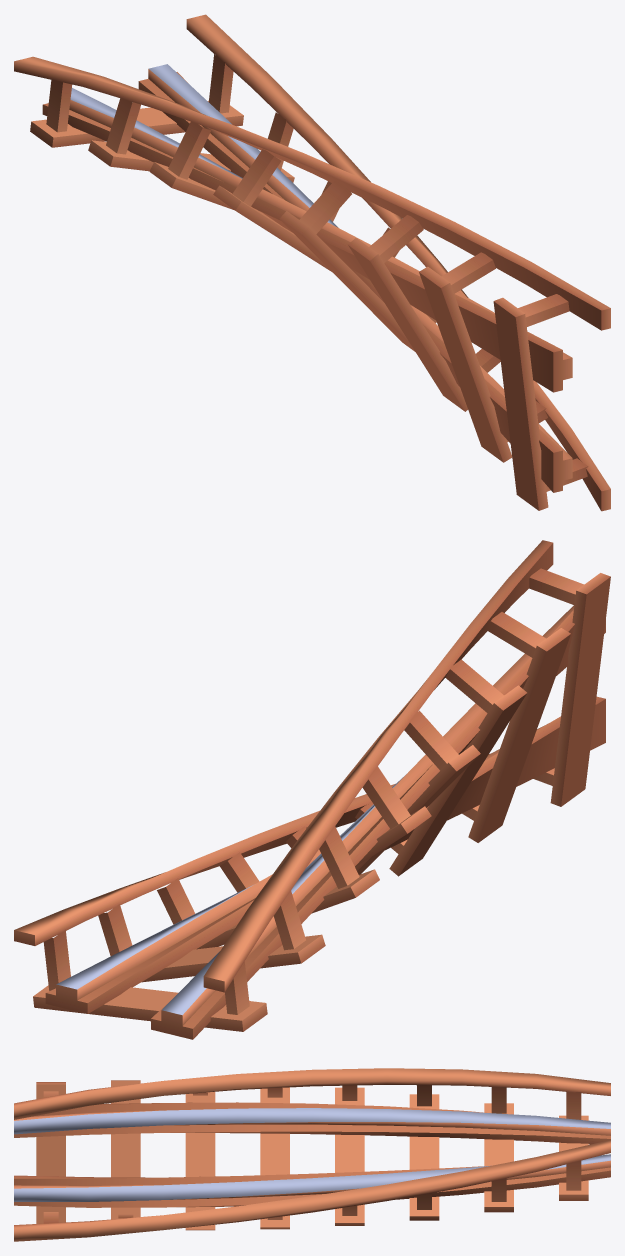
Rendered from kenney-coaster-coaster-wood-straight-skew-left-side.glb.
3 renders of one model, top to bottom at view 1: azimuth 30°, elevation 25°; view 2: azimuth 150°, elevation 25°; view 3: azimuth 270°, elevation 25°, orthographic. The views are drawn at different scales.
Parts seen in each view (by area): view 1: coaster-wood-straight-skew-left-side; view 2: coaster-wood-straight-skew-left-side; view 3: coaster-wood-straight-skew-left-side.
Part boxes in pixels (x1=…): coaster-wood-straight-skew-left-side: x1=14, y1=14, x2=610, y2=511; coaster-wood-straight-skew-left-side: x1=14, y1=540, x2=610, y2=1039; coaster-wood-straight-skew-left-side: x1=14, y1=1068, x2=610, y2=1241.
Size of the model in its own units: 1.08 by 1.08 by 4.
1 material, 1 textured.
